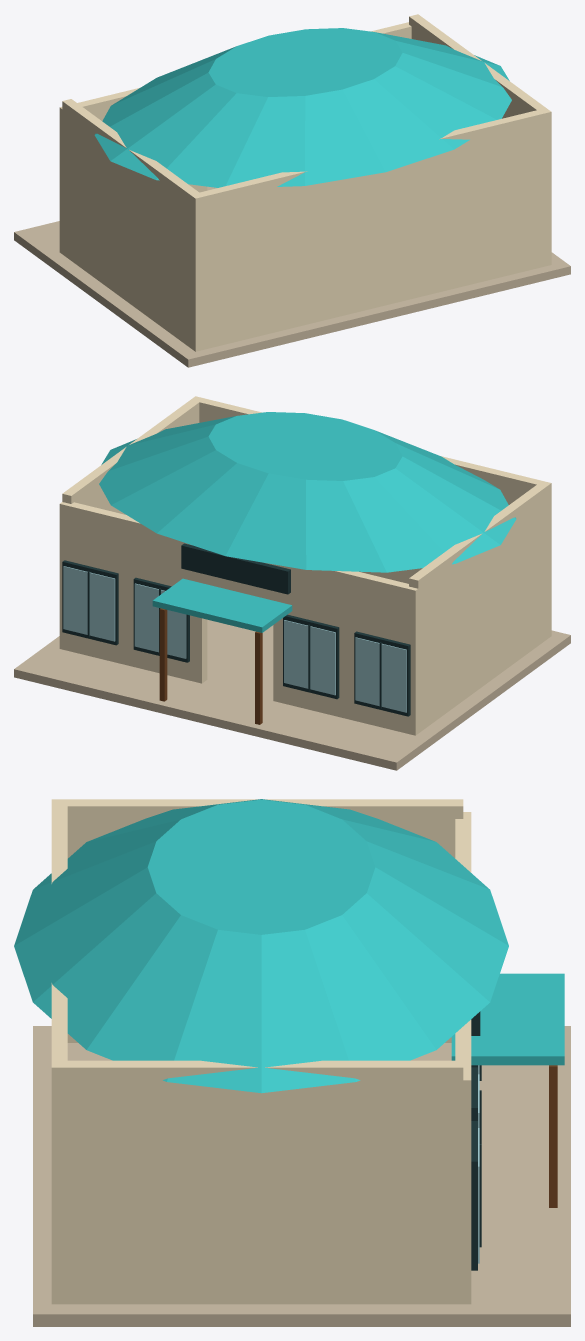
File: information_center.fbx
3 views of the same model, one above another, from view 1: azimuth 30°, elevation 25°; view 2: azimuth 150°, elevation 25°; view 3: azimuth 270°, elevation 25° (orthographic). The views are drawn at different scales.
Parts seen in each view (by area): view 1: information_center; view 2: information_center; view 3: information_center.
Part boxes in pixels (left/top/right/bottom): information_center: left=14, top=14, right=570, bottom=367; information_center: left=14, top=396, right=570, bottom=770; information_center: left=14, top=799, right=570, bottom=1326.
Bounding box in the file's own units: 10 × 5 × 8.
